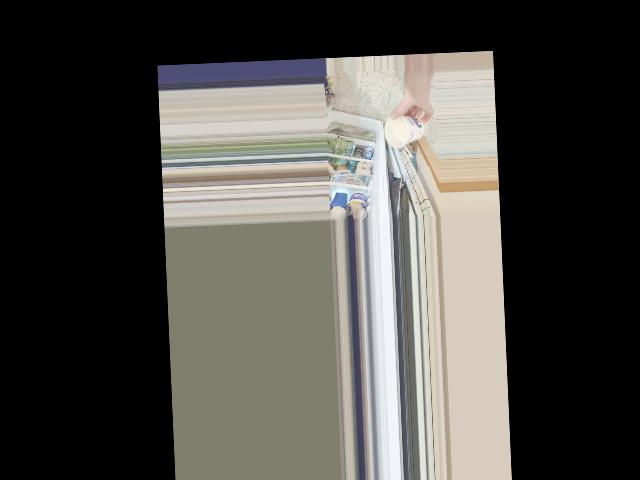cotage: (380, 113, 422, 146)
